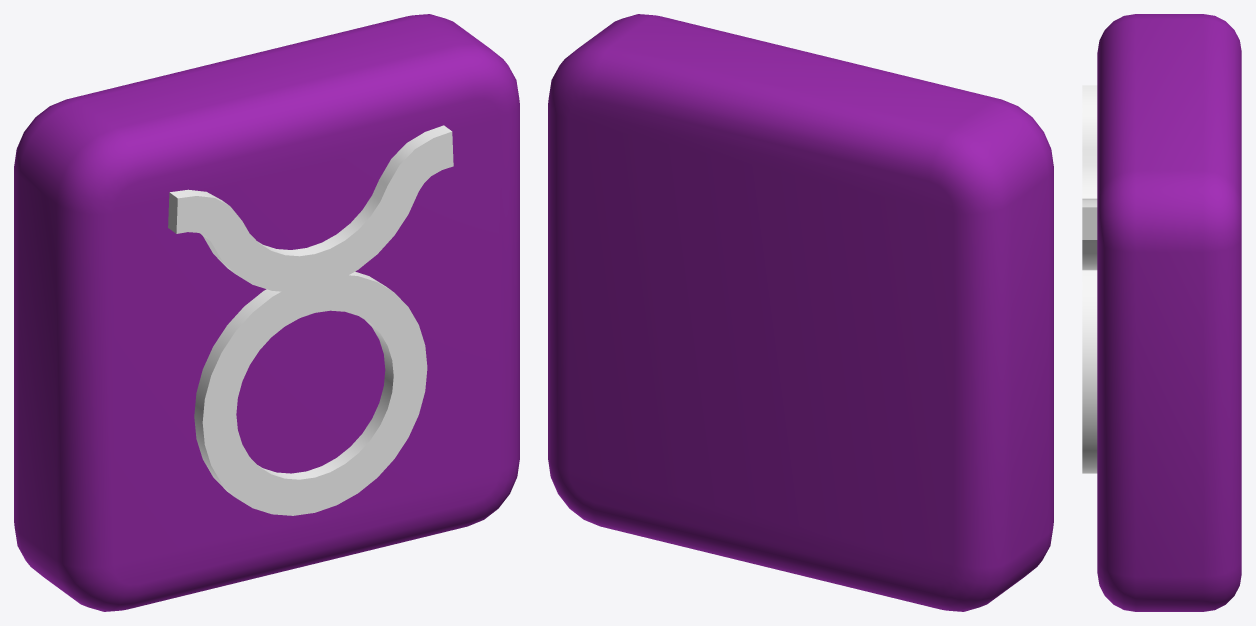
The model's file is taurus.glb.
The picture shows the model from 3 angles, left to right: view 1: azimuth 30°, elevation 25°; view 2: azimuth 150°, elevation 25°; view 3: azimuth 270°, elevation 25°; orthographic projection. The views are drawn at different scales.
Parts seen in each view (by area): view 1: Cube.6400; view 2: Cube.6400; view 3: Cube.6400.
Boxes of the visible parts, box(x1,y1,x2,y2) form: Cube.6400: box(14, 14, 519, 611); Cube.6400: box(548, 14, 1053, 611); Cube.6400: box(1082, 14, 1241, 611).
Bounding box in the file's own units: 2.2 × 2.2 × 0.73.
Materials: 1 (1 with a texture image).
